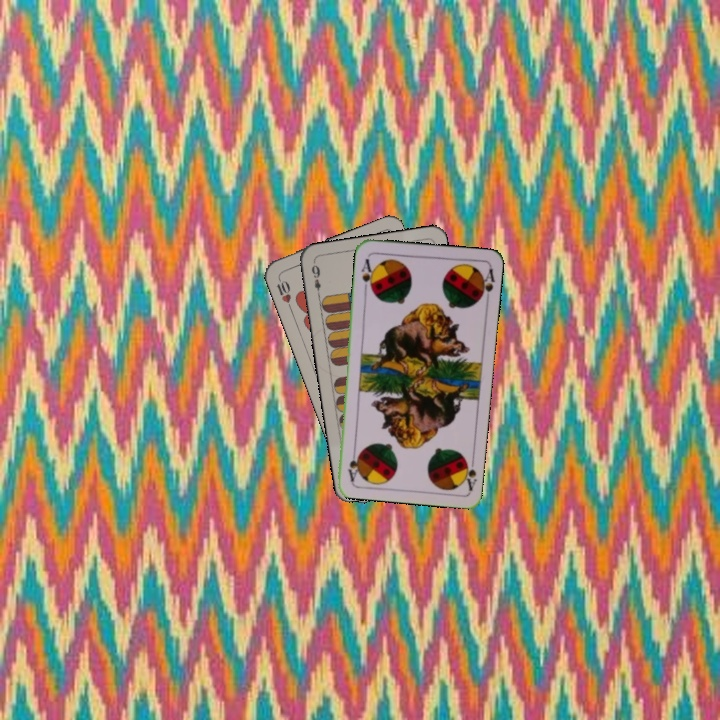E9: (308, 259, 324, 299)
H10: (272, 273, 294, 312)
SA: (458, 452, 478, 493), (357, 255, 376, 294)
